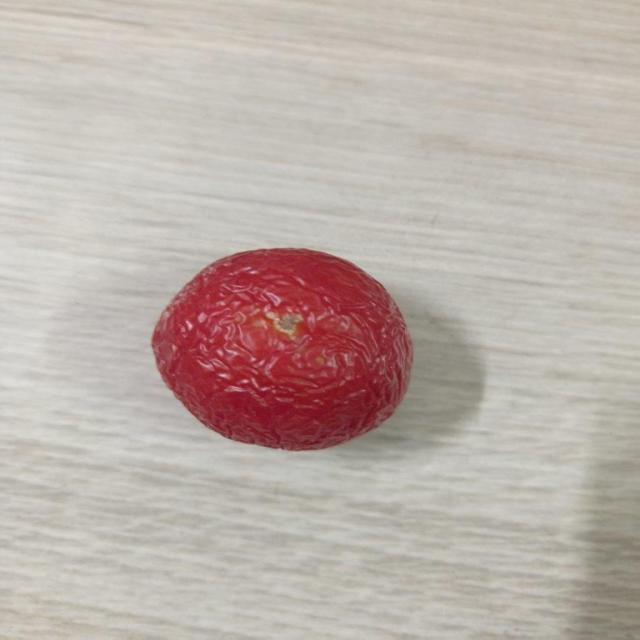overripe: (144, 238, 420, 454)
